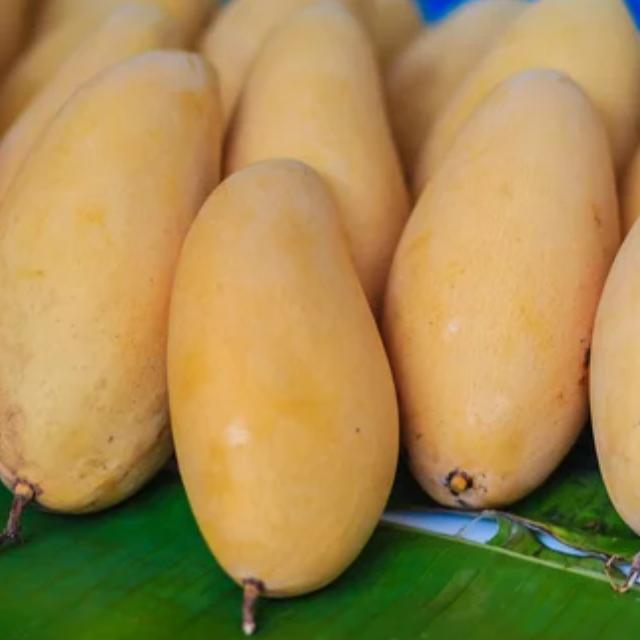mango: (378, 66, 619, 505), (0, 41, 222, 516), (169, 161, 399, 598), (584, 86, 640, 550)
